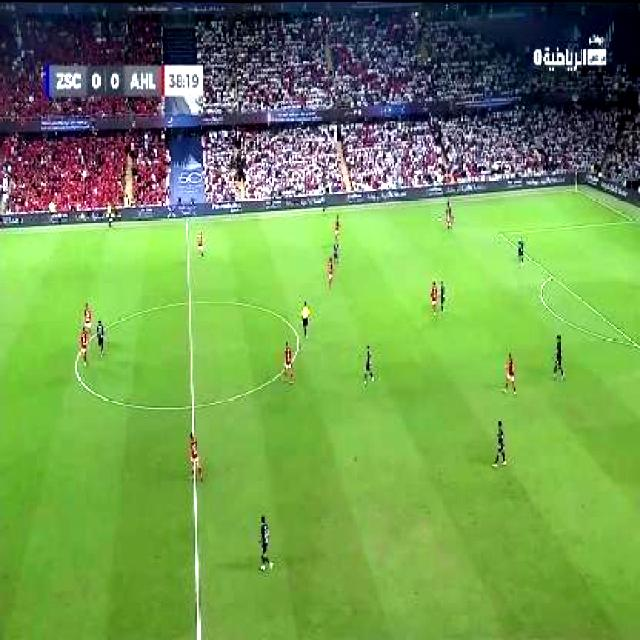bigarea_top_inner: (495, 229, 503, 237)
bottom_arc_area_intersection: (632, 336, 638, 346)
corner: (570, 186, 576, 191)
halfcircle_bottom: (184, 392, 198, 417)
halfcircle_top: (181, 294, 197, 312)
midline_top_intersection: (182, 217, 190, 228)
top_arc_area_intersection: (548, 271, 555, 280)
